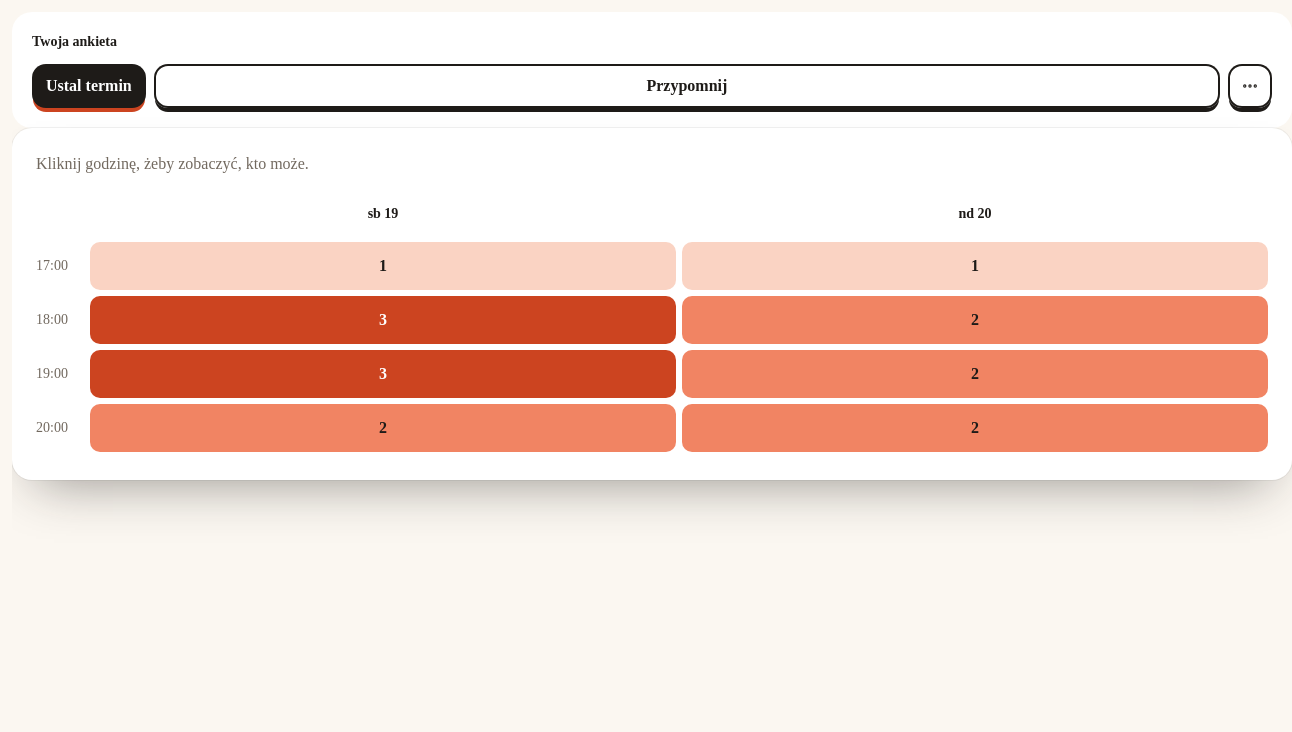
the organiser › loses the controls once the server says this device is not the organiser
Click the button "Ustal termin": [89, 86] box [32,64,146,108]
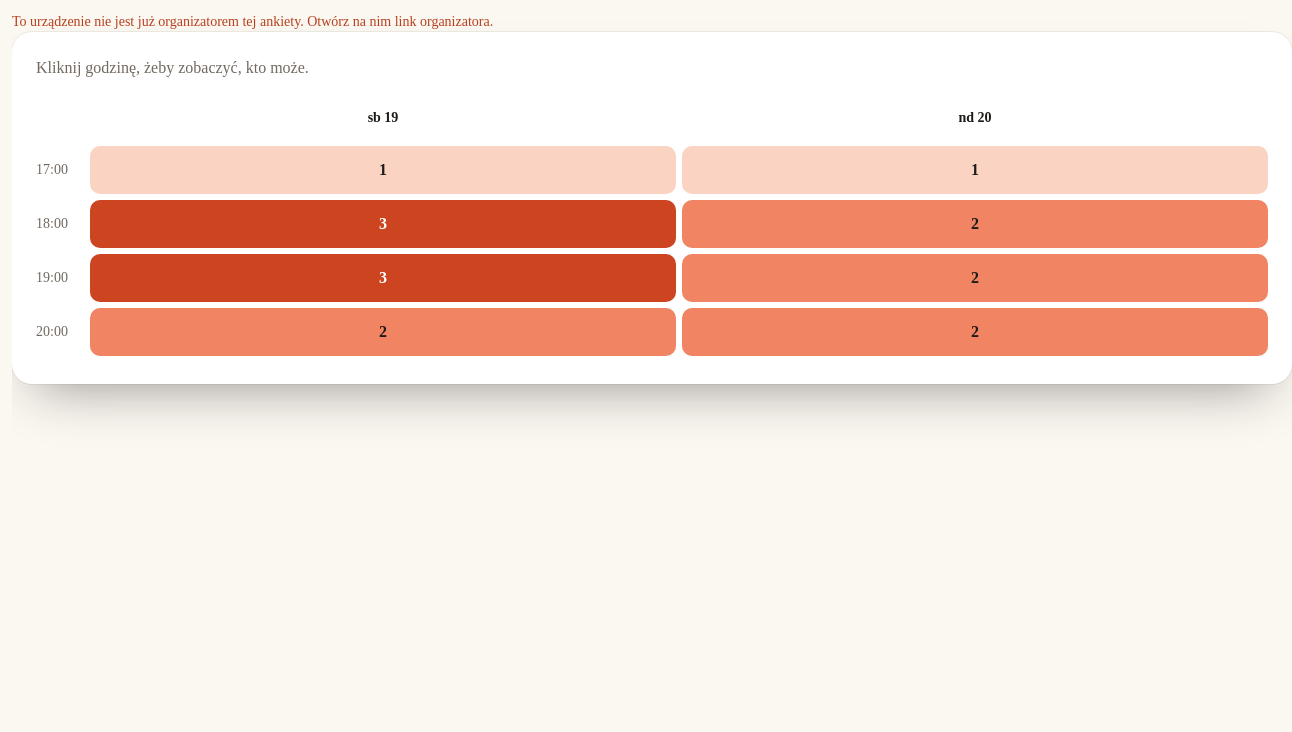
Expected: the button "Przypomnij" is gone
Expected: the message shows "To urządzenie nie jest już organizatorem tej ankiety. Otwórz na nim link organizatora.", [12,14,493,29]
